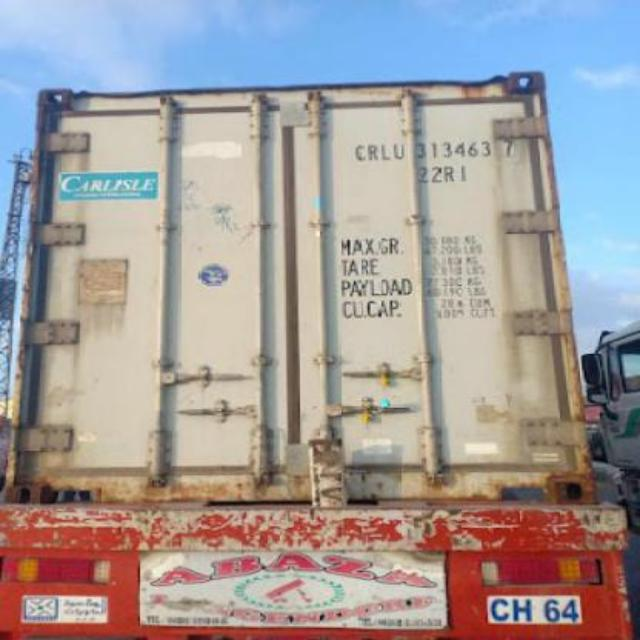1: (428, 138, 438, 158)
3: (478, 136, 492, 160), (414, 139, 426, 159), (442, 138, 452, 162)
4: (454, 136, 466, 160)
6: (466, 136, 478, 160)
7: (501, 138, 514, 158)
C: (352, 142, 366, 164)
L: (378, 142, 392, 162)
R: (366, 140, 378, 163)
U: (392, 140, 406, 162)
